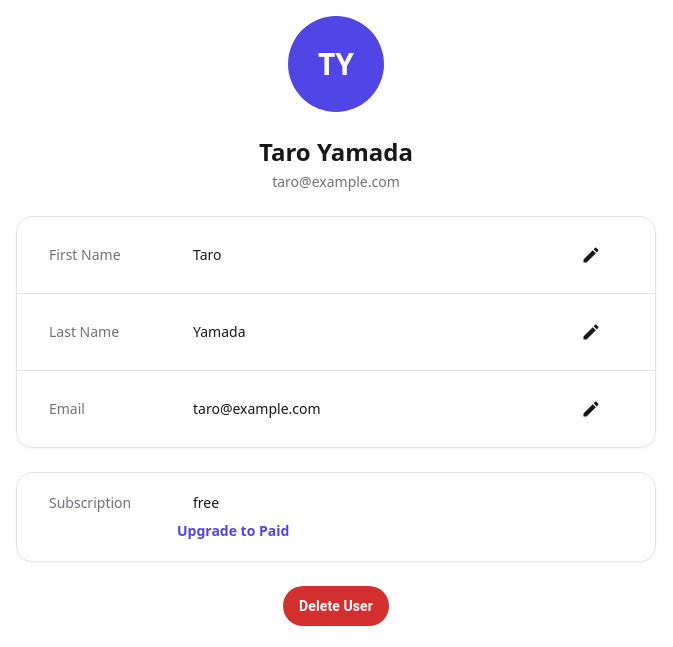
Test: UserProfileView › returns to view mode when Cancel is clicked
The image size is (673, 647).
Click the button named "Edit First Name" at (591, 255), box 559,237 -> 623,273
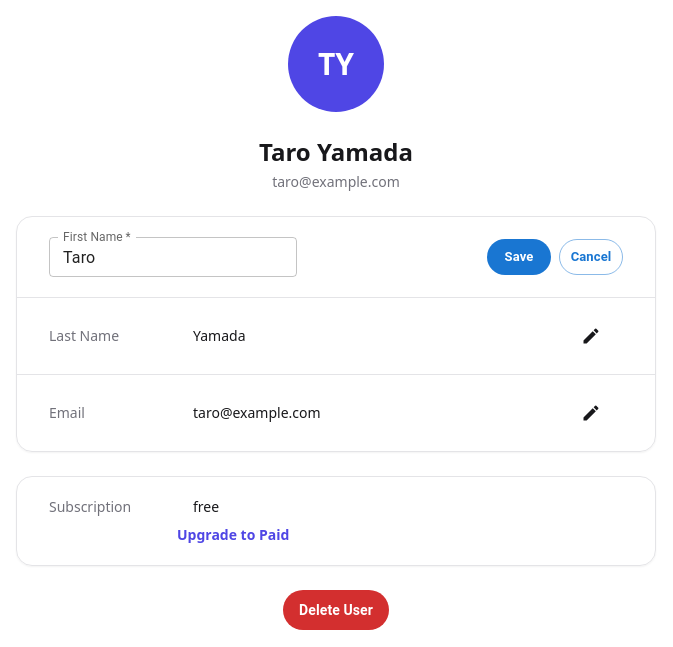
Click the button "Cancel" at (591, 257), box 559,239 -> 623,275
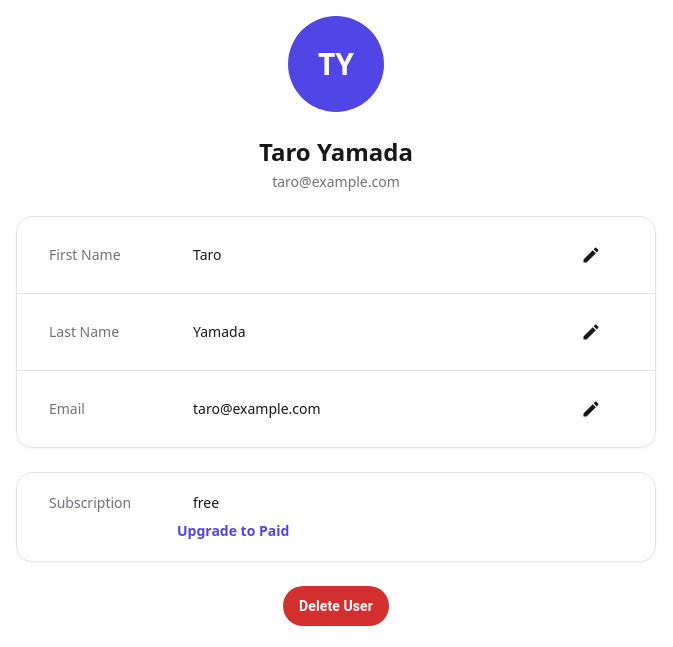
expect the button named "Edit First Name" is shown: met, box 559,237 -> 623,273
